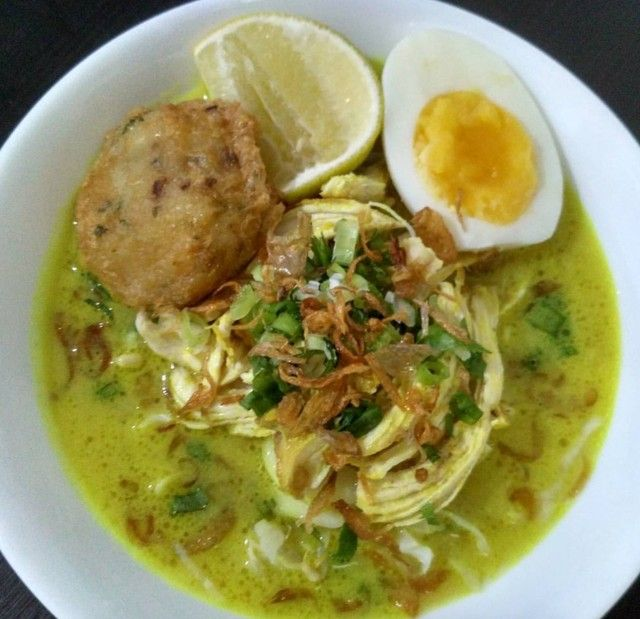soto: (45, 30, 628, 619)
